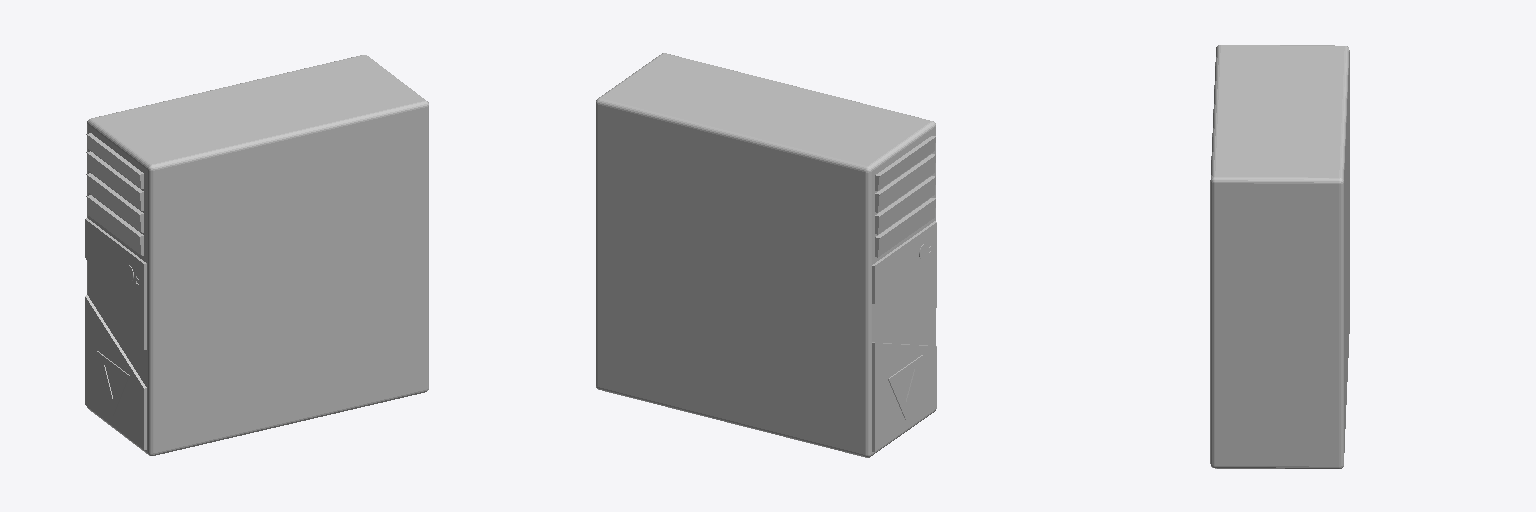
Rendered from Modem_do_PC.obj.
The picture shows the model from 3 angles: view 1: azimuth 30°, elevation 25°; view 2: azimuth 150°, elevation 25°; view 3: azimuth 270°, elevation 25°; orthographic projection.
Visible parts, largest first — view 1: PC:PC; view 2: PC:PC; view 3: PC:PC.
Boxes of the visible parts, x1=… form: PC:PC: x1=85, y1=55, x2=428, y2=455; PC:PC: x1=596, y1=53, x2=936, y2=457; PC:PC: x1=1210, y1=45, x2=1349, y2=468.
Bounding box in the file's own units: 1.35 × 1.32 × 0.5726.